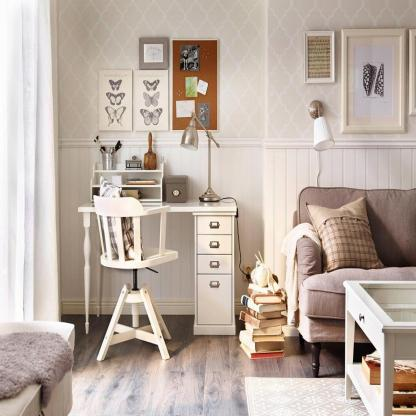Chair: (91, 193, 181, 363)
Sofa: (290, 182, 416, 376)
Table: (341, 279, 416, 415)
